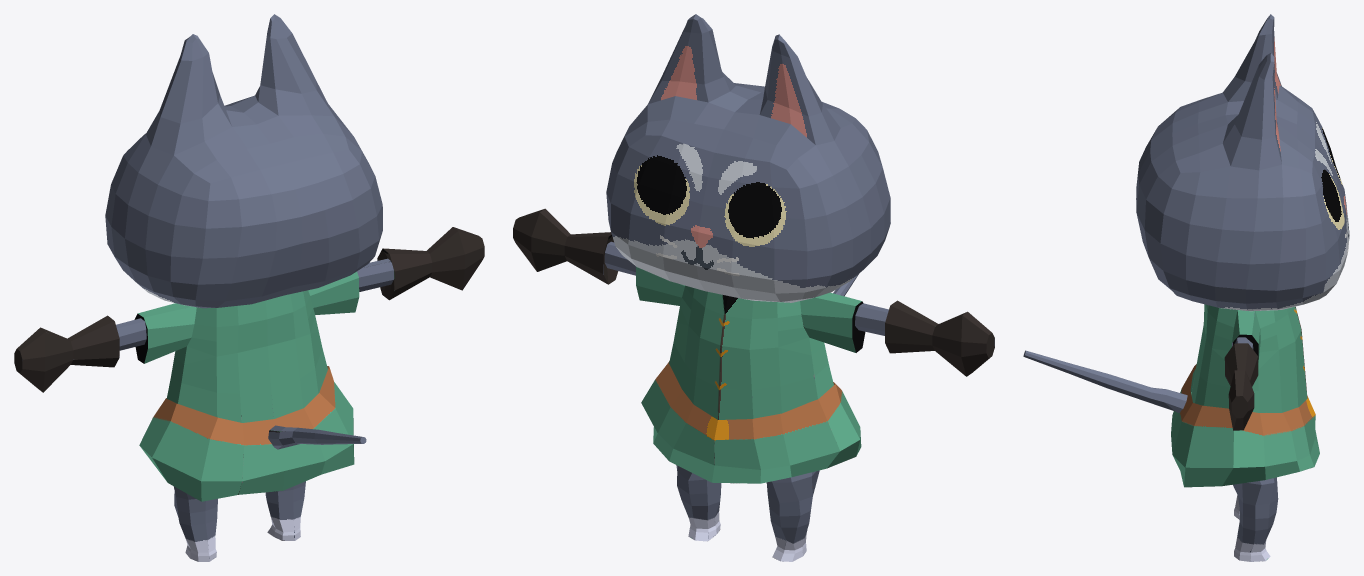
Rendered from Stubert Model.glb.
3 renders of one model, left to right at view 1: azimuth 30°, elevation 25°; view 2: azimuth 150°, elevation 25°; view 3: azimuth 270°, elevation 25°, orthographic. The views are drawn at different scales.
Visible parts, largest first — view 1: Head, Body; view 2: Head, Body; view 3: Head, Body.
Part boxes in pixels (bbox=[...]): Head: bbox=[105, 14, 382, 308]; Body: bbox=[14, 227, 484, 561]; Head: bbox=[606, 14, 890, 302]; Body: bbox=[513, 208, 994, 561]; Head: bbox=[1136, 14, 1349, 311]; Body: bbox=[1023, 304, 1319, 561].
Size of the model in its own units: 1.94 by 2.06 by 1.21.
Materials: 2 (2 with a texture image).
